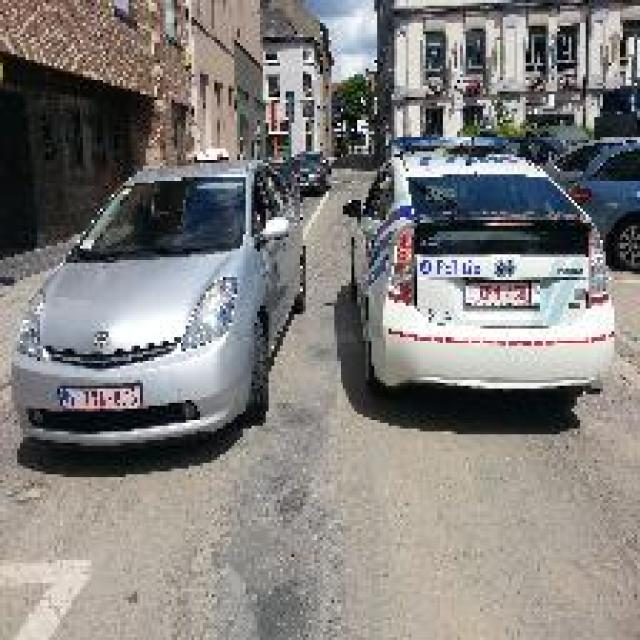Car: (8, 154, 306, 452)
Police-car: (340, 140, 614, 397)
